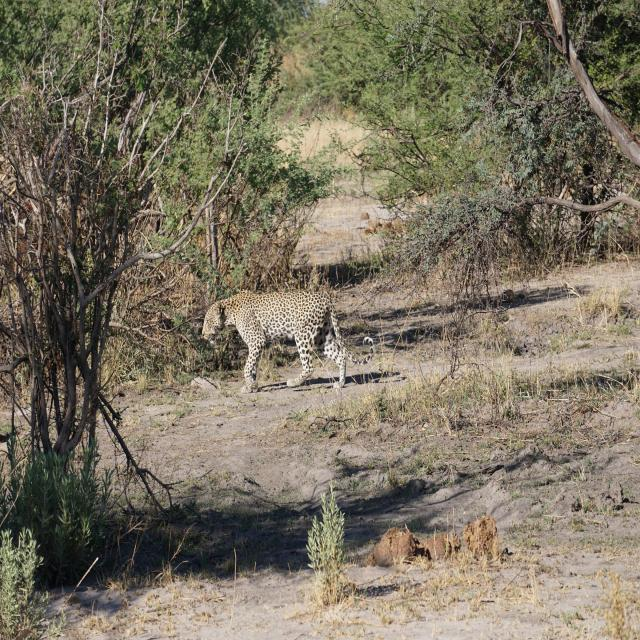Leopard: (210, 277, 356, 397)
